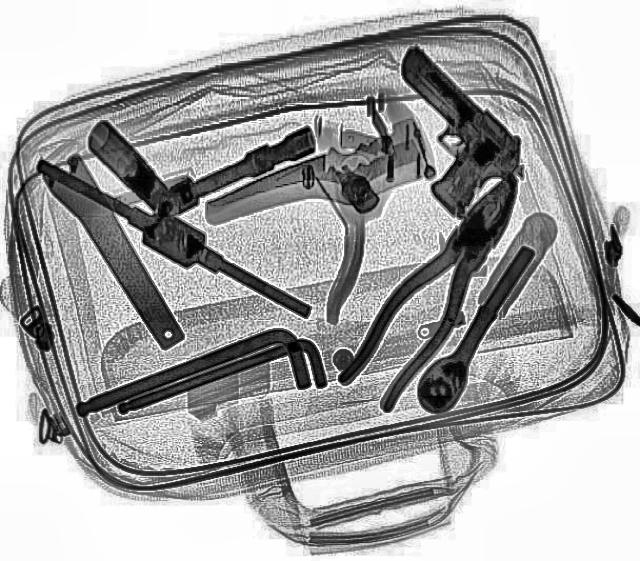Gun: (326, 44, 542, 220)
Pliers: (327, 161, 548, 413)
